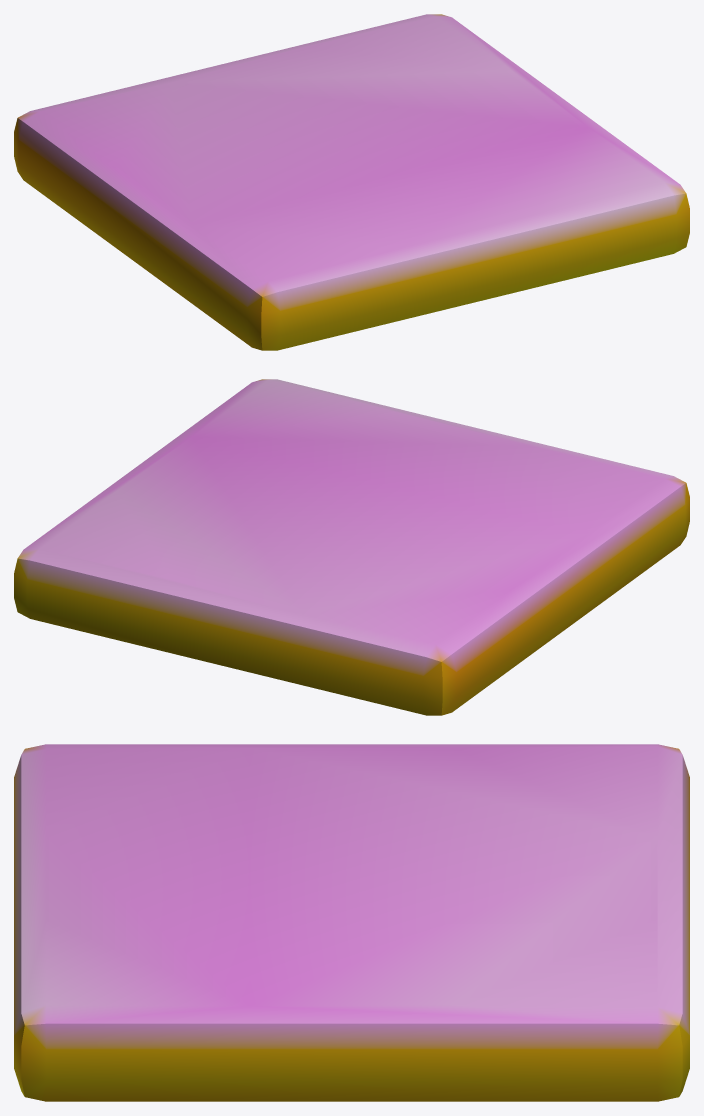
The model's file is env_tile.glb.
3 views of the same model, one above another, from view 1: azimuth 30°, elevation 25°; view 2: azimuth 150°, elevation 25°; view 3: azimuth 270°, elevation 25° (orthographic). The views are drawn at different scales.
Visible parts, largest first — view 1: env_tile; view 2: env_tile; view 3: env_tile.
Boxes of the visible parts, x1,y1,x2,y2 form: env_tile: (14, 14, 689, 350); env_tile: (14, 379, 689, 715); env_tile: (14, 744, 689, 1101).
Bounding box in the file's own units: 0.94 × 0.143 × 0.94.
